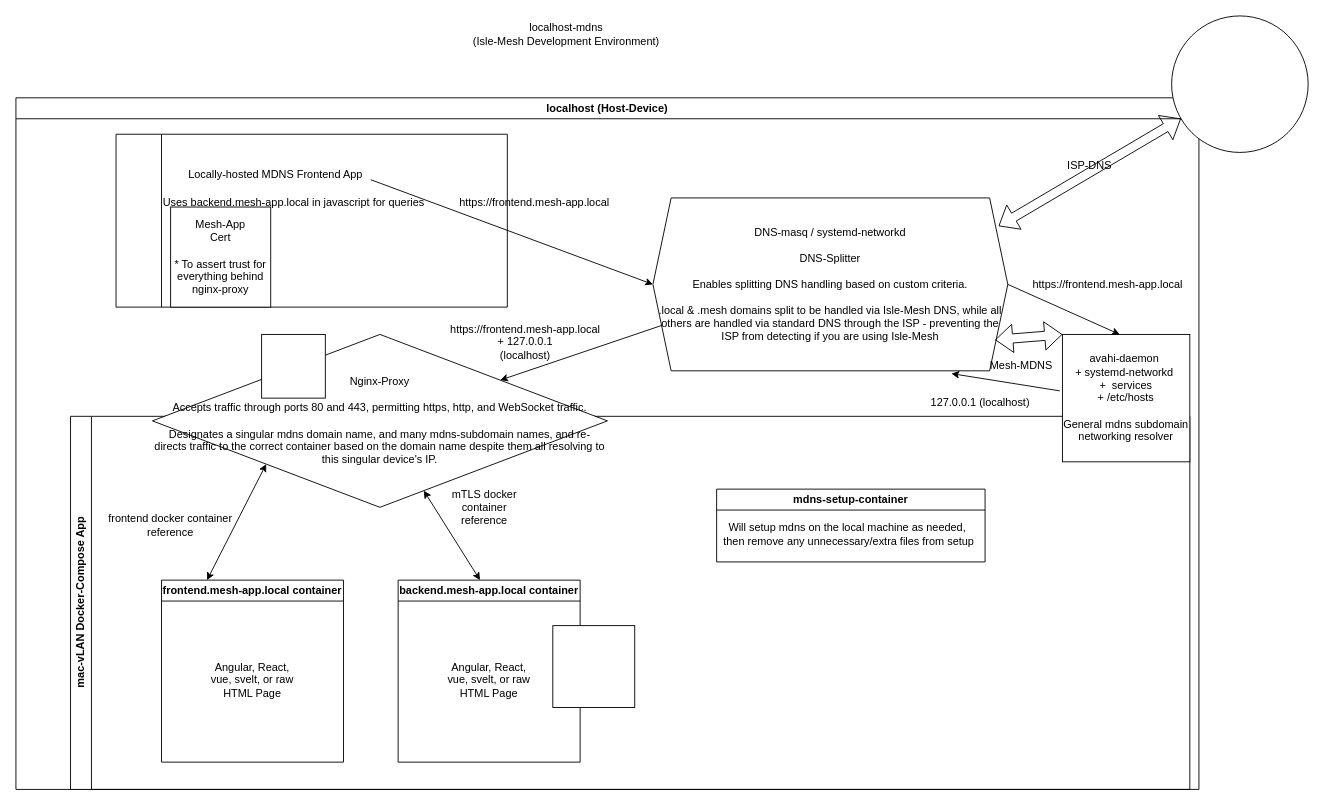
The diagram is 1324 pixels wide and 805 high, and some of its shapes have lost their labels. The box of each missing label's shape, as (x1, y1, x2, y2) in pixels:
backend cert + key for mTLS, Mesh-App Cert for mTLS: (552, 625, 635, 708)
Browser (Firefox, Chrome, etc...): (115, 133, 507, 307)
ISP-WAN: (1171, 15, 1308, 152)
Mesh-App Cert + Key, backend cert for mTLS: (261, 334, 325, 398)
